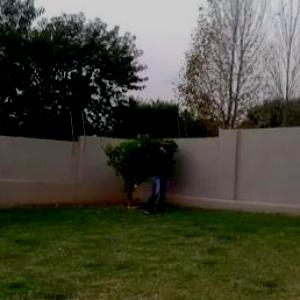follow: (149, 132, 170, 218)
